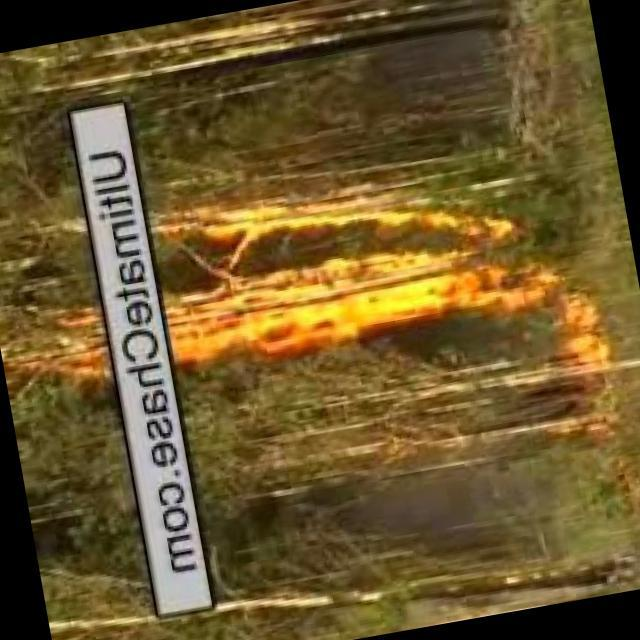Fire: (157, 156, 550, 387), (101, 1, 398, 105), (12, 301, 113, 399), (554, 274, 623, 382)
